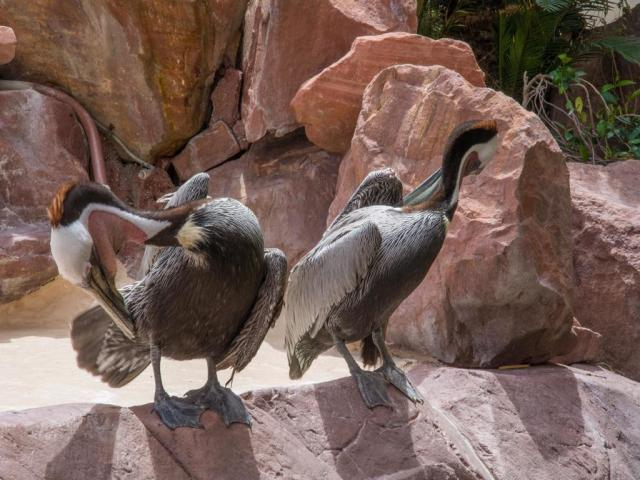Bird: (36, 167, 288, 434), (284, 116, 498, 414)
